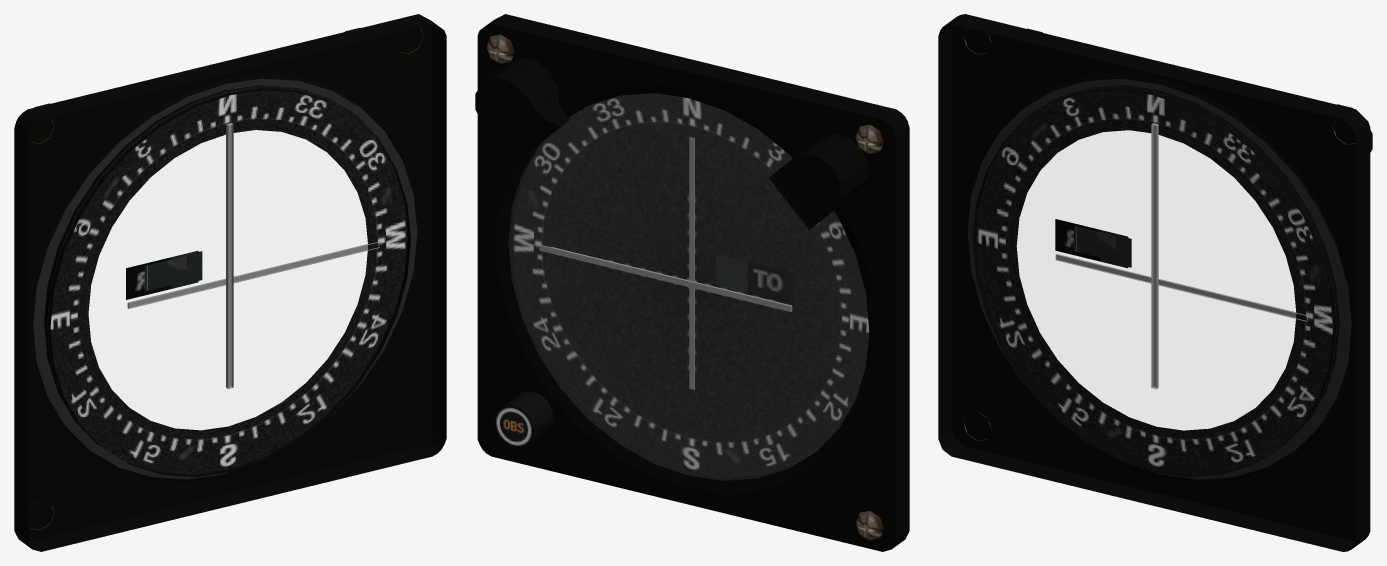
Rendered from vor.obj.
The picture shows the model from 3 angles, left to right: view 1: azimuth 30°, elevation 25°; view 2: azimuth 150°, elevation 25°; view 3: azimuth 330°, elevation 25°; orthographic projection.
Visible parts, largest first — view 1: VOR.fond, vitre, VOR.ring, VOR.LocalizerNeedle, VOR.GlidescopeNeedle, VOR.FR, VOR.NAV; view 2: VOR.fond, vitre, VOR.face, VOR.ring, VOR.knob, VOR.TO, VOR.GlidescopeNeedle, VOR.LocalizerNeedle; view 3: VOR.fond, vitre, VOR.ring, VOR.LocalizerNeedle, VOR.GlidescopeNeedle, VOR.FR, VOR.NAV.
Boxes of the visible parts, bbox=[...] form: VOR.fond: bbox=[14, 14, 446, 551]; vitre: bbox=[34, 79, 416, 478]; VOR.ring: bbox=[47, 85, 407, 474]; VOR.LocalizerNeedle: bbox=[226, 123, 233, 388]; VOR.GlidescopeNeedle: bbox=[127, 241, 379, 308]; VOR.FR: bbox=[126, 250, 198, 299]; VOR.NAV: bbox=[144, 256, 186, 291]; VOR.fond: bbox=[475, 14, 909, 551]; vitre: bbox=[509, 93, 868, 480]; VOR.face: bbox=[551, 133, 831, 433]; VOR.ring: bbox=[512, 93, 869, 477]; VOR.knob: bbox=[494, 391, 553, 447]; VOR.TO: bbox=[716, 255, 791, 302]; VOR.GlidescopeNeedle: bbox=[539, 244, 792, 311]; VOR.LocalizerNeedle: bbox=[689, 136, 694, 389]; VOR.fond: bbox=[938, 14, 1372, 551]; vitre: bbox=[968, 79, 1350, 478]; VOR.ring: bbox=[975, 85, 1337, 474]; VOR.LocalizerNeedle: bbox=[1151, 123, 1158, 389]; VOR.GlidescopeNeedle: bbox=[1055, 254, 1307, 321]; VOR.FR: bbox=[1055, 219, 1128, 268]; VOR.NAV: bbox=[1074, 226, 1116, 261].
Bounding box in the file's own units: 0.1187 × 0.1173 × 0.0202.
Materials: 2 (1 with a texture image).
